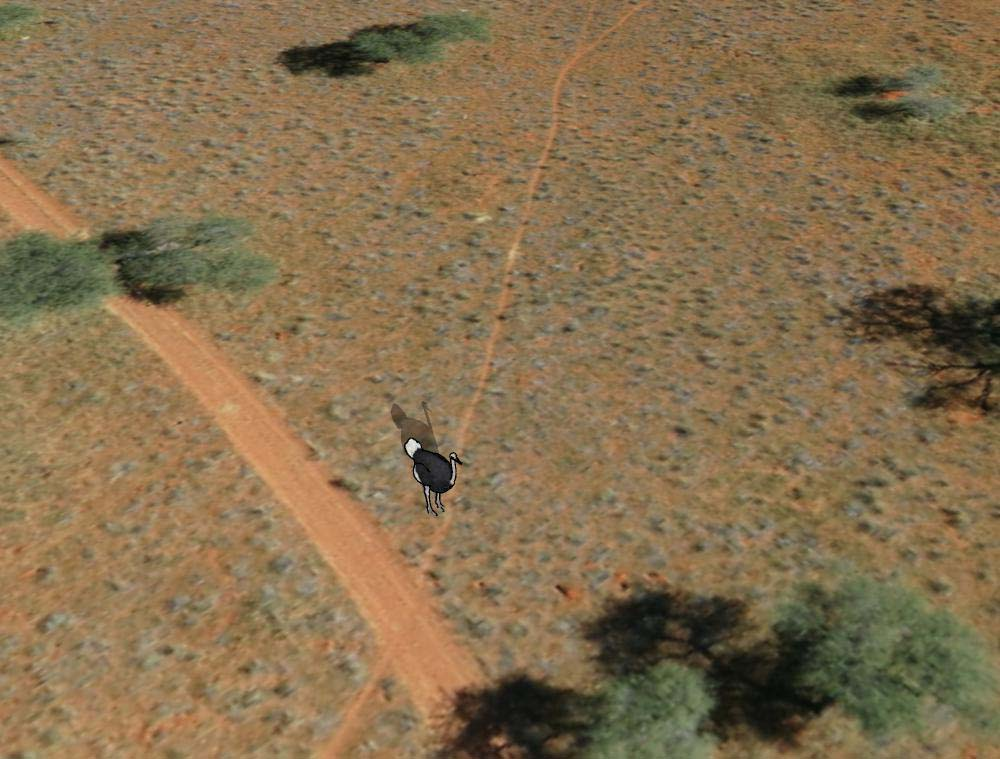springbok: (403, 437, 468, 522)
